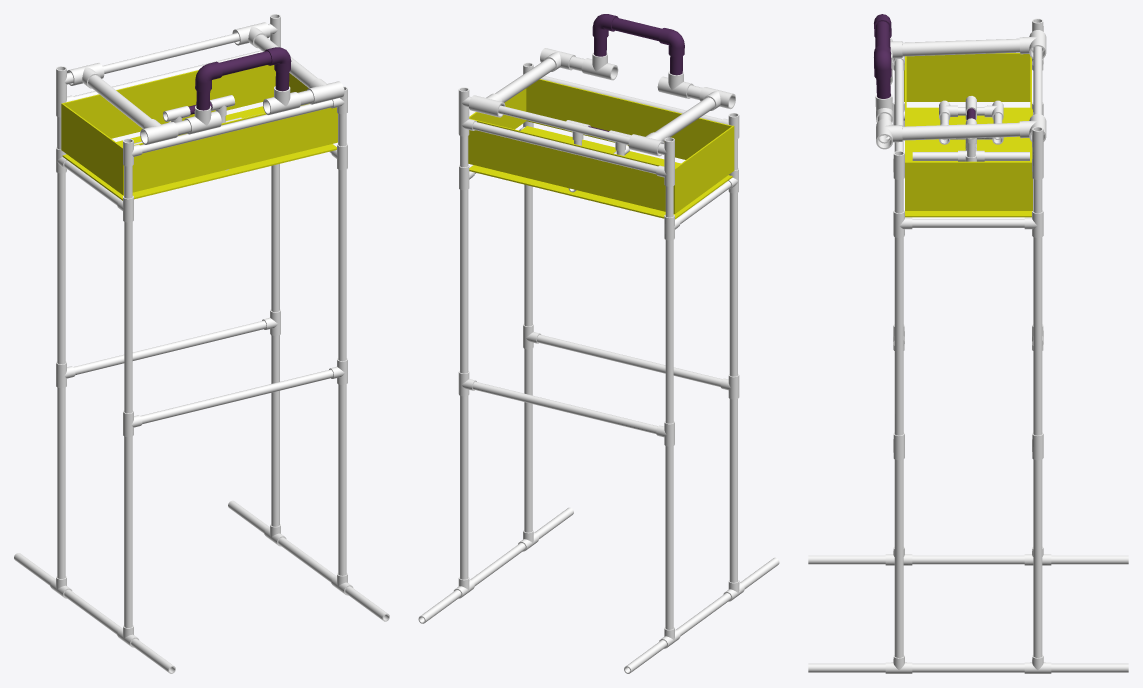
File: Expose_to_Sunlight_Open.obj
3 renders of one model, left to right at view 1: azimuth 30°, elevation 25°; view 2: azimuth 150°, elevation 25°; view 3: azimuth 270°, elevation 25°, orthographic. The views are drawn at different scales.
Parts seen in each view (by area): view 1: Solid1:40, Solid1:41, Solid1:42, Solid1:39, Solid1:22, Solid1:23, Solid1:16, Solid1:17, Solid1:12, Solid1:15, Solid1:10, Solid1:13 (+15 smaller); view 2: Solid1:41, Solid1:40, Solid1:42, Solid1:39, Solid1:23, Solid1:34, Solid1:13, Solid1:14, Solid1:16, Solid1:10, Solid1:11, Solid1:17 (+17 smaller); view 3: Solid1:43, Solid1:42, Solid1:39, Solid1:12, Solid1:15, Solid1:11, Solid1:14, Solid1:46, Solid1:47, Solid1:8, Solid1:9, Solid1:29 (+9 smaller).
Part boxes in pixels (x1,y1,x2,y2): Solid1:40: (132, 103, 337, 192); Solid1:41: (63, 65, 275, 138); Solid1:42: (61, 103, 123, 195); Solid1:39: (62, 106, 336, 200); Solid1:22: (140, 369, 333, 424); Solid1:23: (73, 320, 266, 374); Solid1:16: (57, 173, 65, 364); Solid1:17: (124, 222, 132, 413); Solid1:12: (338, 384, 346, 575); Solid1:15: (338, 169, 346, 361); Solid1:10: (124, 436, 132, 627); Solid1:13: (57, 387, 65, 578); Solid1:41: (468, 118, 665, 211); Solid1:40: (526, 79, 731, 159); Solid1:42: (673, 125, 734, 213); Solid1:39: (469, 126, 732, 219); Solid1:23: (472, 381, 657, 433); Solid1:34: (472, 122, 657, 173); Solid1:13: (665, 446, 673, 629); Solid1:14: (460, 189, 468, 373); Solid1:16: (665, 240, 673, 423); Solid1:10: (729, 399, 737, 582); Solid1:11: (460, 396, 468, 579); Solid1:17: (729, 193, 737, 376); Solid1:43: (905, 161, 1032, 210); Solid1:42: (904, 53, 1030, 101); Solid1:39: (905, 107, 1032, 217); Solid1:12: (894, 459, 903, 657); Solid1:15: (894, 237, 903, 435); Solid1:11: (1033, 459, 1042, 657); Solid1:14: (1033, 237, 1042, 435); Solid1:46: (902, 38, 1019, 56); Solid1:47: (902, 122, 1019, 140); Solid1:8: (912, 555, 1024, 564); Solid1:9: (912, 663, 1024, 672); Solid1:29: (912, 219, 1024, 227).
Bounding box in the file's own units: 25.08 × 60.7 × 30.
